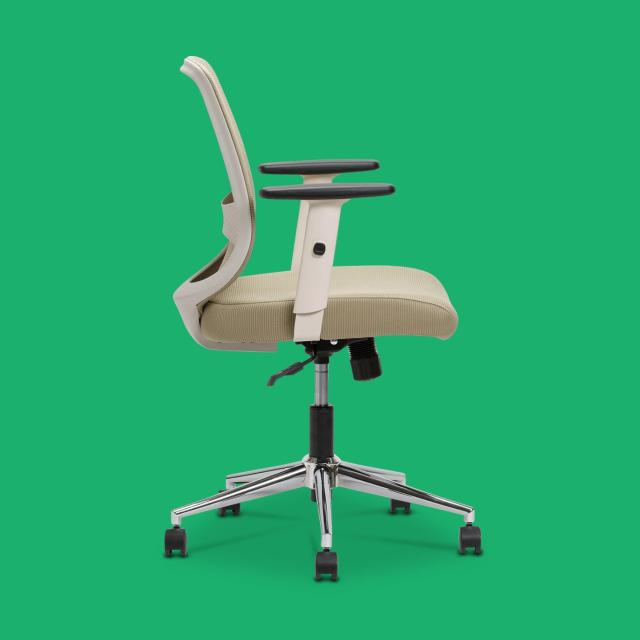chair: (84, 45, 547, 620)
